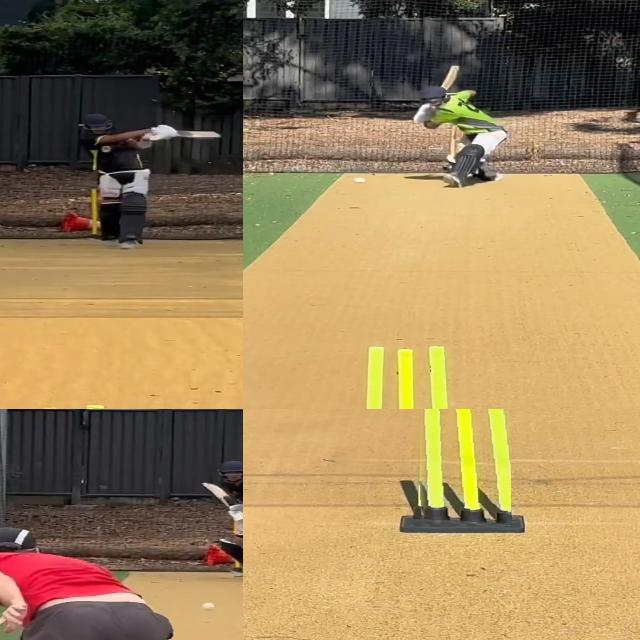Cricket ball: (202, 601, 218, 611), (352, 176, 367, 184)
Stumps: (411, 409, 511, 524)
